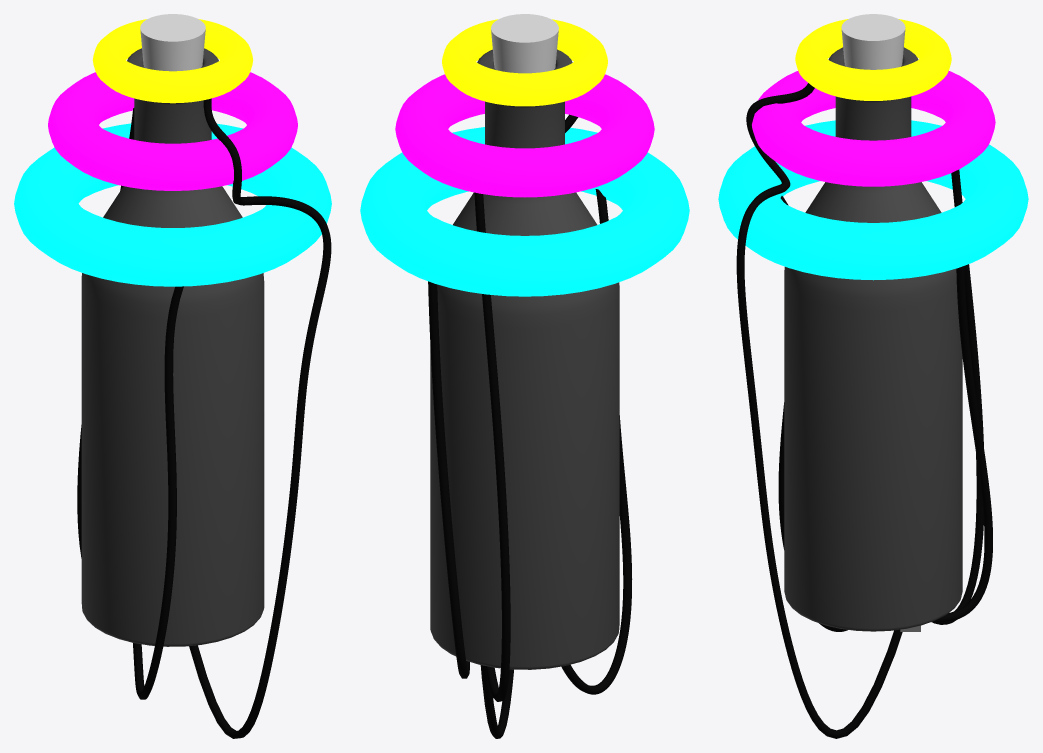
The model's file is is_tesla_cocktail.fbx.
The picture shows the model from 3 angles, left to right: view 1: azimuth 30°, elevation 25°; view 2: azimuth 150°, elevation 25°; view 3: azimuth 270°, elevation 25°; orthographic projection. The views are drawn at different scales.
Visible parts, largest first — view 1: Bottle, TeslaCoil, TeslaCoil.001, TeslaCoil.002, Wire.002, Wire.003, Bottle Cap, Wire.001; view 2: Bottle, TeslaCoil, TeslaCoil.001, TeslaCoil.002, Wire.001, Wire, Bottle Cap, Wire.003, Wire.002; view 3: Bottle, TeslaCoil, TeslaCoil.001, Wire.002, TeslaCoil.002, Wire, Bottle Cap, Wire.001, Wire.003.
Boxes of the visible parts, x1,y1,x2,y2 form: Bottle: (81,48,264,646); TeslaCoil: (14,123,331,286); TeslaCoil.001: (48,72,297,190); TeslaCoil.002: (92,19,253,103); Wire.002: (189,98,331,738); Wire.003: (133,286,183,699); Bottle Cap: (140,14,205,71); Wire.001: (77,108,134,558); Bottle: (430,49,619,669); TeslaCoil: (360,127,689,296); TeslaCoil.001: (395,74,654,197); TeslaCoil.002: (442,19,607,106); Wire.001: (474,192,510,701); Wire: (428,281,469,678); Bottle Cap: (491,14,558,73); Wire.003: (561,189,632,694); Wire.002: (480,114,578,738); Bottle: (784,47,962,631); TeslaCoil: (718,120,1028,280); TeslaCoil.001: (752,71,995,186); Wire.002: (736,83,902,738); TeslaCoil.002: (795,19,951,100); Wire: (932,265,992,622); Bottle Cap: (841,14,905,69); Wire.001: (932,169,983,624); Wire.003: (778,196,847,631).
Size of the model in its own units: 28.67 by 70.39 by 28.67.
